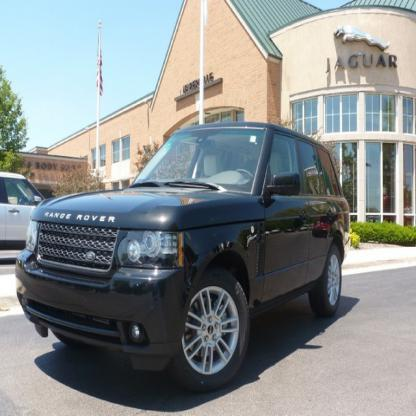Vehicle: (15, 122, 350, 394)
